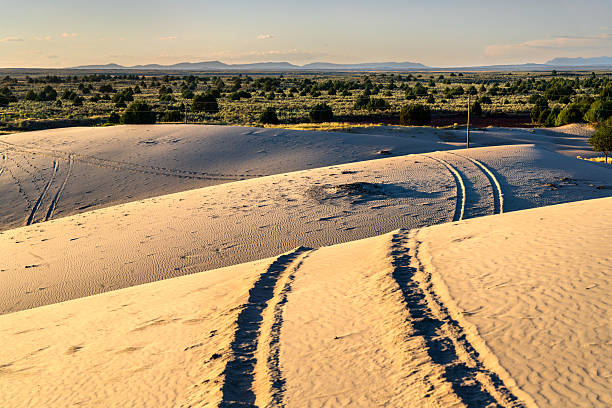vehicle_track: (391, 230, 524, 407), (219, 247, 310, 406), (0, 141, 265, 180), (448, 151, 503, 213), (423, 154, 465, 220), (26, 159, 58, 224), (45, 155, 72, 220)
